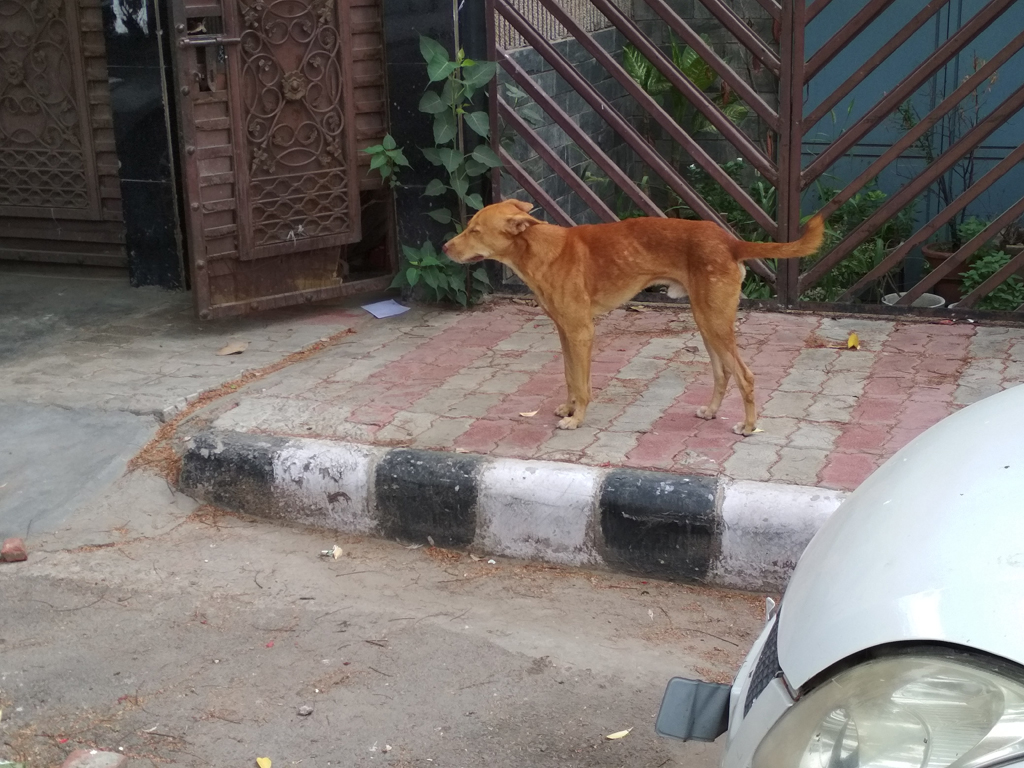dog: (442, 197, 828, 431)
